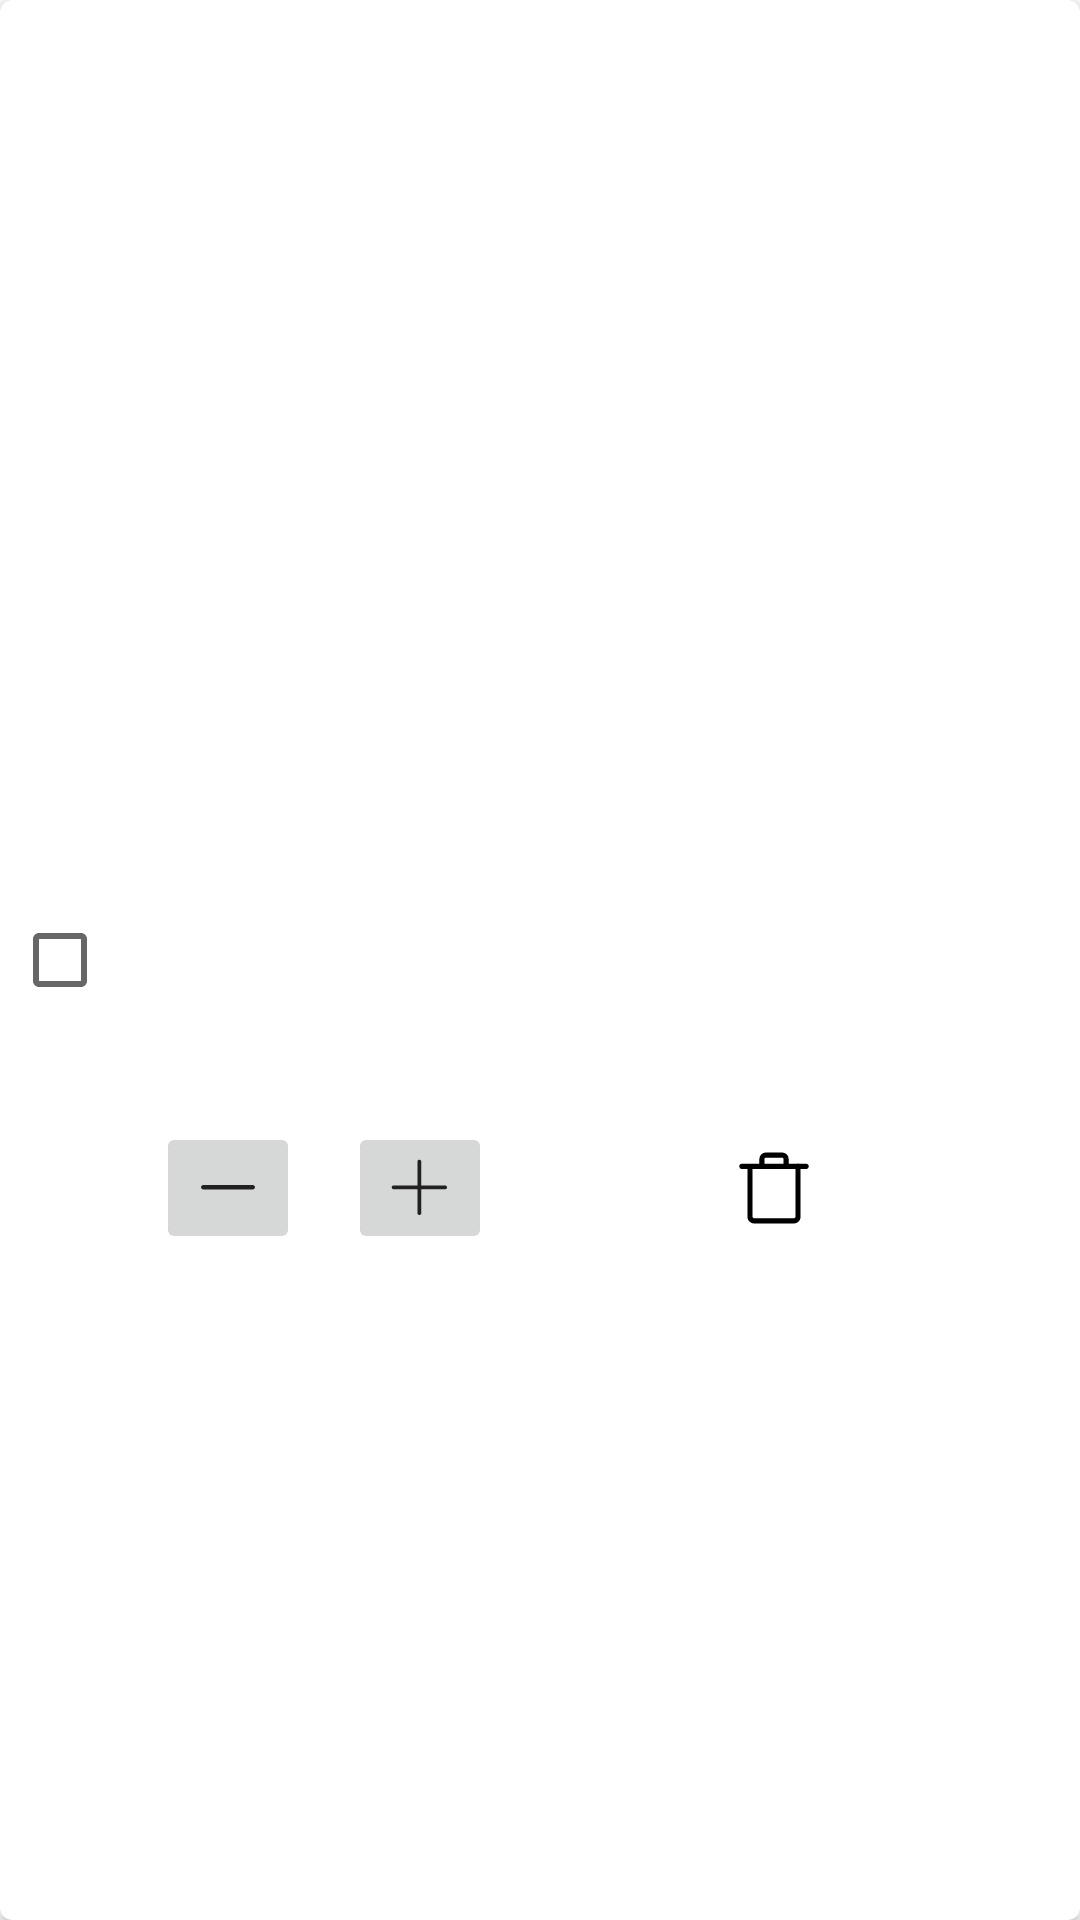

Icon click points for this 1080x1920 phone screenshot, format [x,y]:
Button decrease item count: [228,1188]
Button delete item from cart: [774,1188]
Button increase item count: [420,1188]
